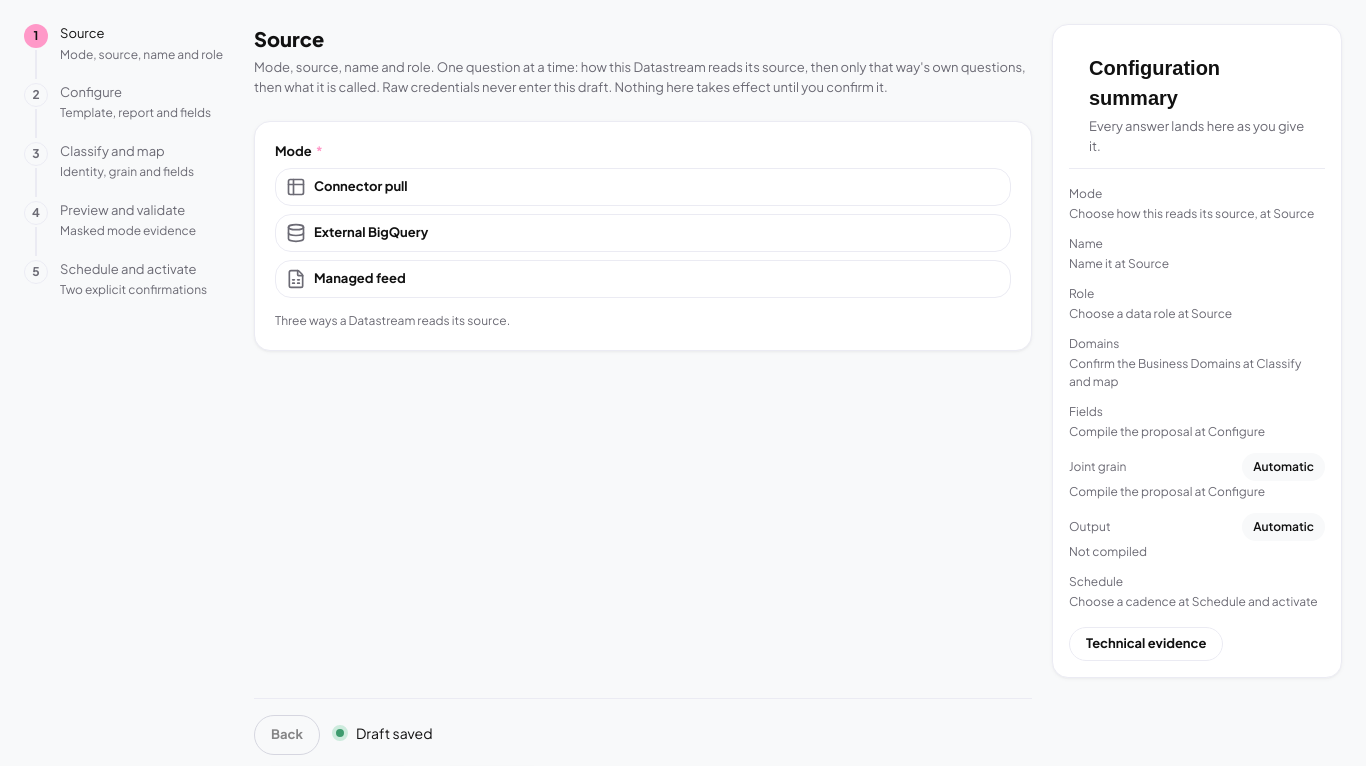
never shows an address, and says where one is issued
Click the radio button labelled "Managed feed" at x=360, y=278, box [275,260,1011,298]
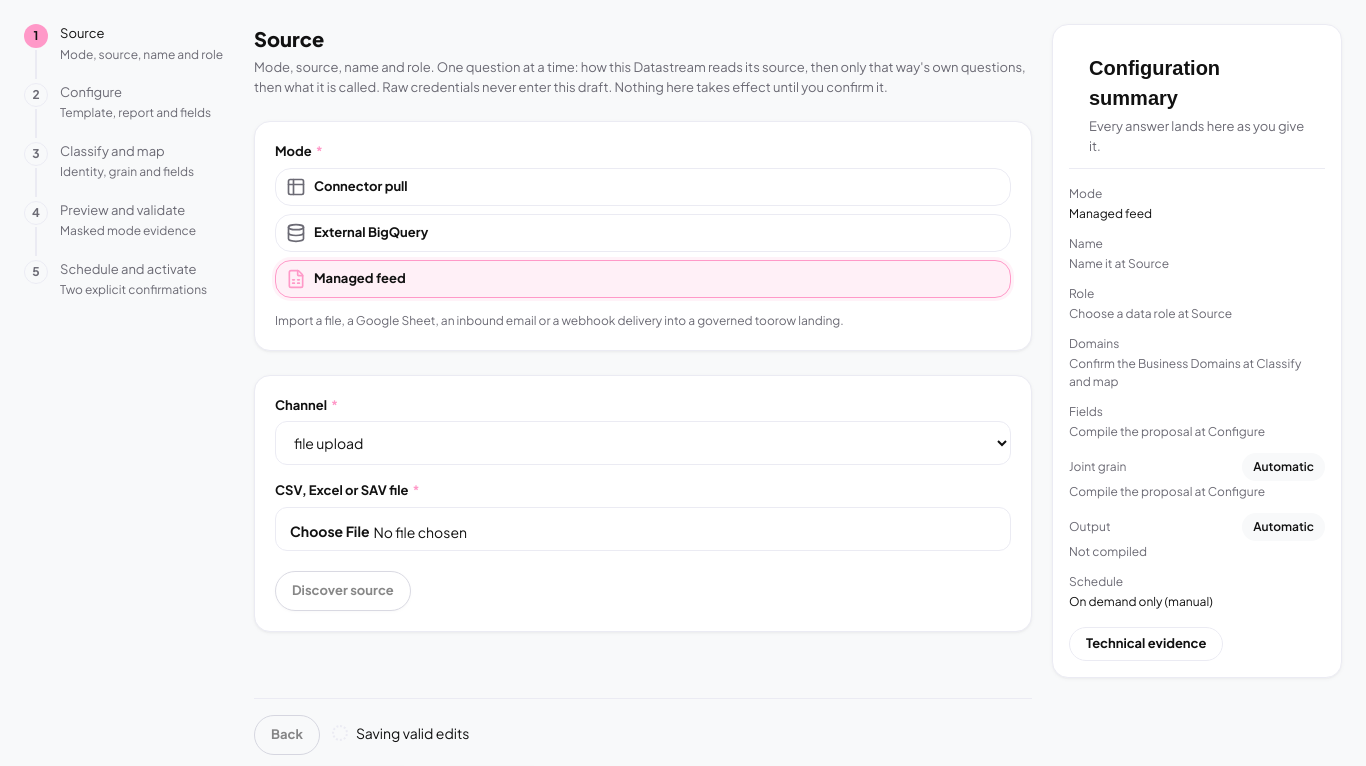
Select "inbound email" in the dropdown labelled "Channel*" at x=643, y=443, box [275,421,1011,465]
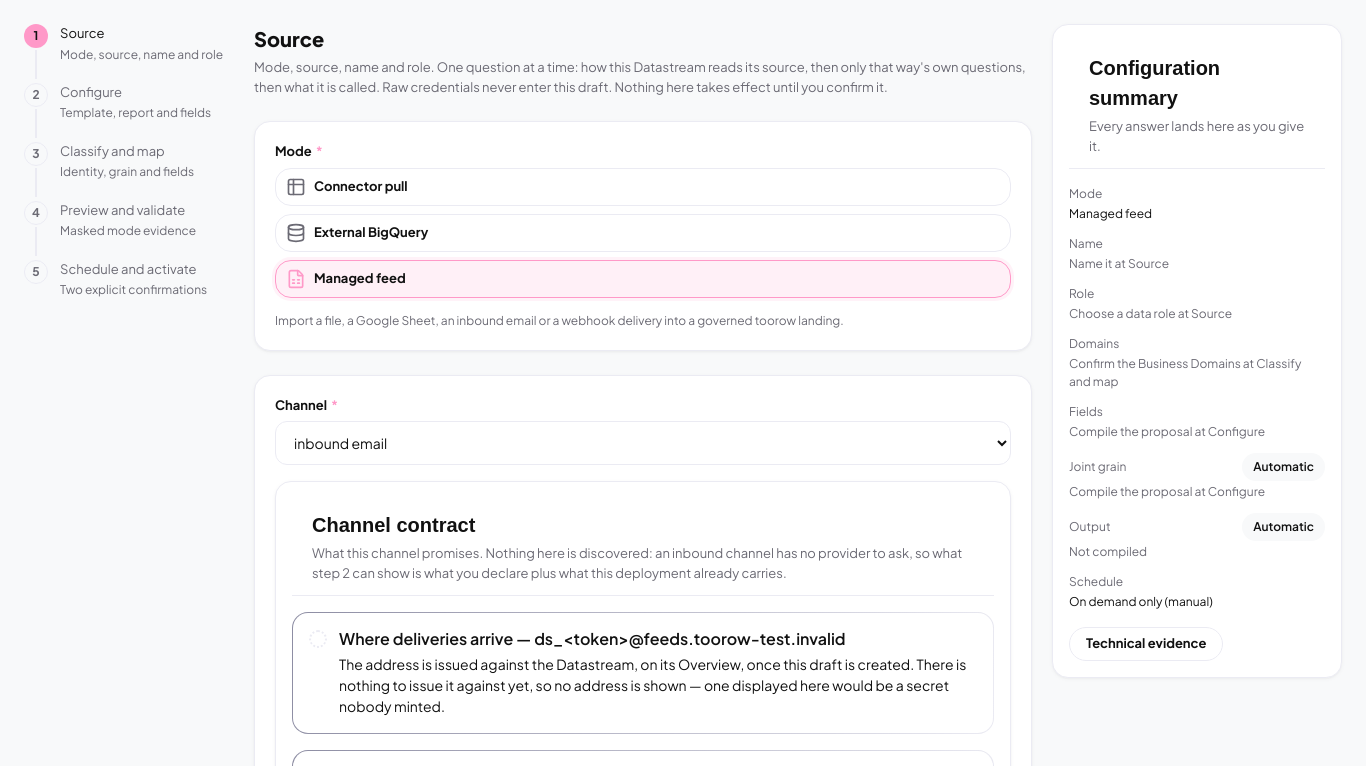
expect the text "The address is issued against the Datastream, on its Overview" is shown: met, box [339,655,966,715]
